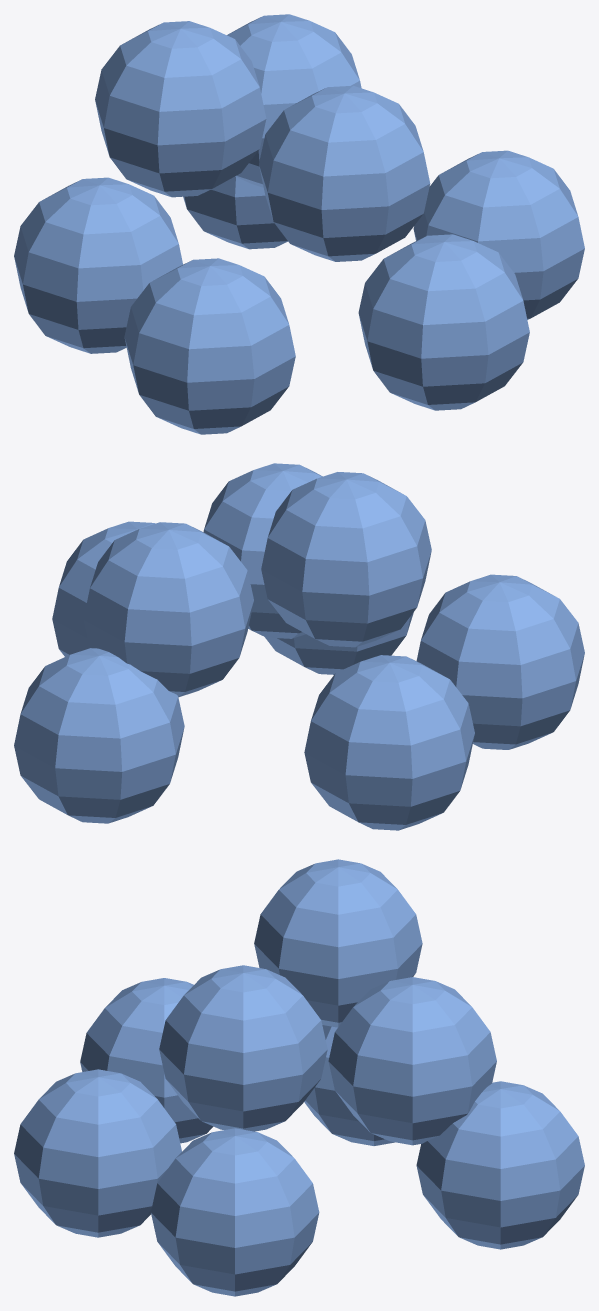
Rendered from Blasentry.fbx.
The picture shows the model from 3 angles, top to bottom: view 1: azimuth 30°, elevation 25°; view 2: azimuth 150°, elevation 25°; view 3: azimuth 270°, elevation 25°; orthographic projection. The views are drawn at different scales.
Visible parts, largest first — view 1: Sphere.004, Sphere, Sphere.007, Sphere.003, Sphere.001, Sphere.005, Sphere.006, Sphere.002; view 2: Sphere.001, Sphere.003, Sphere.002, Sphere.006, Sphere, Sphere.007, Sphere.005, Sphere.004; view 3: Sphere.005, Sphere.007, Sphere.006, Sphere.004, Sphere.002, Sphere.003, Sphere, Sphere.001.
Part boxes in pixels (left/top/right/bottom): Sphere.004: left=358, top=234, right=529, bottom=410; Sphere: left=124, top=258, right=295, bottom=434; Sphere.007: left=259, top=85, right=430, bottom=261; Sphere.003: left=95, top=21, right=266, bottom=197; Sphere.001: left=14, top=177, right=182, bottom=353; Sphere.005: left=413, top=150, right=584, bottom=319; Sphere.006: left=227, top=14, right=361, bottom=187; Sphere.002: left=183, top=176, right=287, bottom=249; Sphere.001: left=304, top=655, right=474, bottom=830; Sphere.003: left=261, top=472, right=431, bottom=647; Sphere.002: left=14, top=648, right=184, bottom=823; Sphere.006: left=83, top=522, right=253, bottom=697; Sphere: left=416, top=574, right=584, bottom=749; Sphere.007: left=203, top=463, right=322, bottom=638; Sphere.005: left=52, top=521, right=155, bottom=656; Sphere.004: left=265, top=612, right=413, bottom=674; Sphere.005: left=151, top=1128, right=319, bottom=1296; Sphere.007: left=159, top=965, right=327, bottom=1131; Sphere.006: left=328, top=977, right=496, bottom=1145; Sphere.004: left=14, top=1069, right=181, bottom=1237; Sphere.002: left=416, top=1081, right=584, bottom=1249; Sphere.003: left=254, top=859, right=422, bottom=1027; Sphere: left=80, top=978, right=213, bottom=1143; Sphere.001: left=304, top=1025, right=394, bottom=1145.
Bounding box in the file's own units: 625 × 393 × 678.
